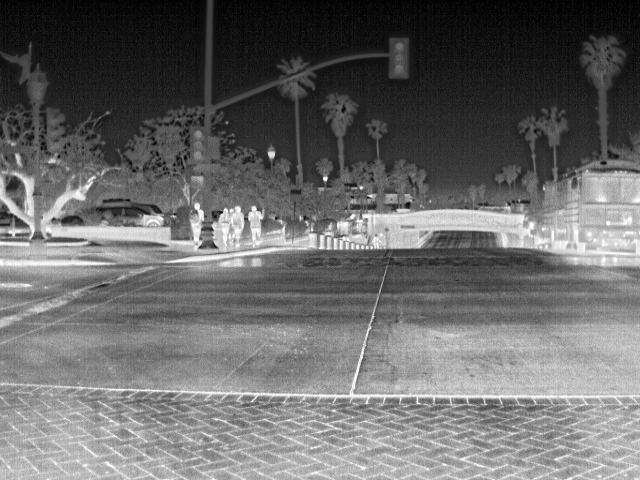car: (96, 204, 168, 230), (131, 200, 165, 216)
person: (247, 202, 266, 246), (231, 204, 246, 248), (191, 204, 205, 244), (221, 206, 234, 248)
